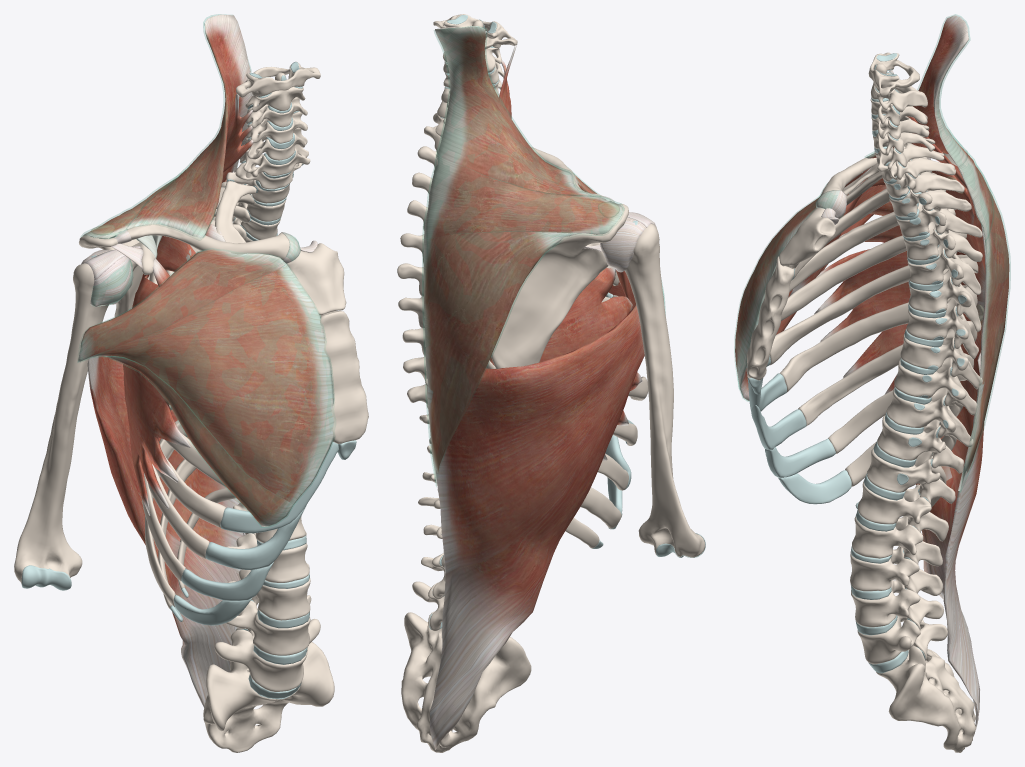
File: upper-limb-axio-appendicular-muscles.glb
3 renders of one model, left to right at view 1: azimuth 30°, elevation 25°; view 2: azimuth 150°, elevation 25°; view 3: azimuth 270°, elevation 25°, orthographic. The views are drawn at different scales.
Parts seen in each view (by area): view 1: Pectoralis major.r, Sternocostal head of pectoralis major muscle.r, Latissimus dorsi.r, Humerus.r, Trapezius muscle.r, Sacrum, Serratus anterior muscle.r, Clavicular head of pectoralis major muscle.r, Body of sternum, Descending part of Trapezius muscle.r, Abdominal head of pectoralis major muscle.r, Lumbar vertebra (L5) (+30 smaller); view 2: Latissimus dorsi.r, Trapezius muscle.r, Humerus.r, Ascending part of Trapezius muscle.r, Scapula.r, Sacrum, Descending part of Trapezius muscle.r, Transverse part of trapezius muscle.r, Serratus anterior muscle.r, Articular capsule of glenohumeral joint.r, Rib (10th).r, Atlas (C1) (+3 smaller); view 3: Trapezius muscle.r, Latissimus dorsi.r, Sacrum, Serratus anterior muscle.r, Pectoralis major.r, Rib (7th).r, Ascending part of Trapezius muscle.r, Rib (6th).r, Body of sternum, Lumbar vertebra (L3), Lumbar vertebra (L2), Lumbar vertebra (L1) (+37 smaller).
Boxes of the visible parts, left/top/right/bottom form: Pectoralis major.r: left=78, top=249, right=334, bottom=526; Sternocostal head of pectoralis major muscle.r: left=82, top=264, right=334, bottom=504; Latissimus dorsi.r: left=87, top=356, right=244, bottom=707; Humerus.r: left=14, top=263, right=109, bottom=583; Trapezius muscle.r: left=83, top=14, right=252, bottom=238; Sacrum: left=203, top=642, right=334, bottom=752; Serratus anterior muscle.r: left=123, top=224, right=225, bottom=515; Clavicular head of pectoralis major muscle.r: left=78, top=249, right=286, bottom=362; Body of sternum: left=319, top=310, right=368, bottom=443; Descending part of Trapezius muscle.r: left=127, top=14, right=251, bottom=237; Abdominal head of pectoralis major muscle.r: left=103, top=356, right=293, bottom=527; Lumbar vertebra (L5): left=214, top=619, right=320, bottom=691; Latissimus dorsi.r: left=427, top=304, right=644, bottom=749; Trapezius muscle.r: left=423, top=26, right=622, bottom=485; Humerus.r: left=625, top=224, right=705, bottom=557; Ascending part of Trapezius muscle.r: left=422, top=231, right=591, bottom=486; Scapula.r: left=491, top=203, right=628, bottom=368; Sacrum: left=401, top=611, right=531, bottom=752; Descending part of Trapezius muscle.r: left=434, top=26, right=600, bottom=196; Transverse part of trapezius muscle.r: left=422, top=154, right=624, bottom=239; Serratus anterior muscle.r: left=539, top=267, right=642, bottom=460; Articular capsule of glenohumeral joint.r: left=600, top=217, right=645, bottom=272; Rib (10th).r: left=580, top=487, right=621, bottom=528; Atlas (C1): left=433, top=14, right=517, bottom=49; Trapezius muscle.r: left=866, top=15, right=1009, bottom=490; Latissimus dorsi.r: left=916, top=320, right=984, bottom=736; Sacrum: left=876, top=620, right=976, bottom=752; Serratus anterior muscle.r: left=814, top=167, right=985, bottom=394; Pectoralis major.r: left=735, top=173, right=886, bottom=400; Rib (7th).r: left=779, top=285, right=977, bottom=392; Ascending part of Trapezius muscle.r: left=959, top=164, right=1010, bottom=492; Rib (6th).r: left=770, top=254, right=978, bottom=365; Body of sternum: left=747, top=256, right=794, bottom=380; Lumbar vertebra (L3): left=850, top=546, right=942, bottom=595; Lumbar vertebra (L2): left=852, top=516, right=942, bottom=566; Lumbar vertebra (L1): left=857, top=481, right=948, bottom=541.
Size of the model in its own units: 0.3097 by 0.7175 by 0.2506.
Materials: 55 (6 with a texture image).
